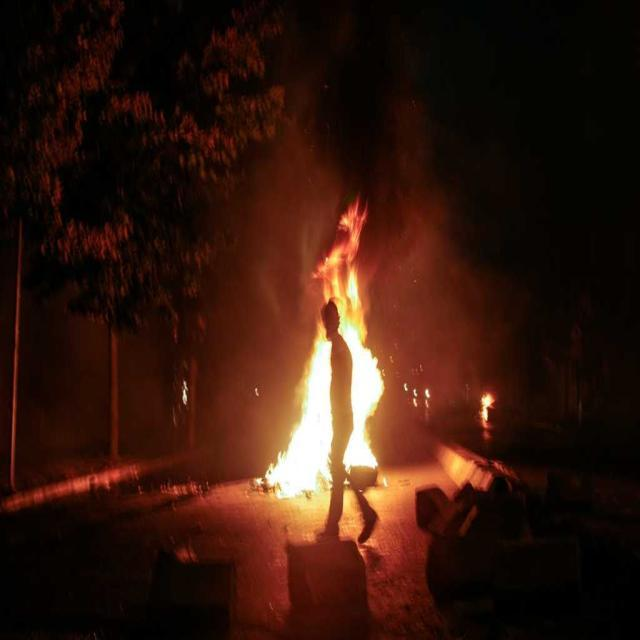Fire: (326, 191, 370, 298), (264, 432, 330, 491), (356, 338, 384, 468), (300, 343, 326, 430)
